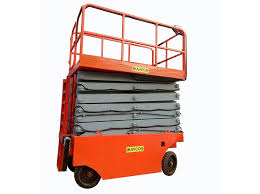Scissor Lift: (56, 3, 189, 189)
